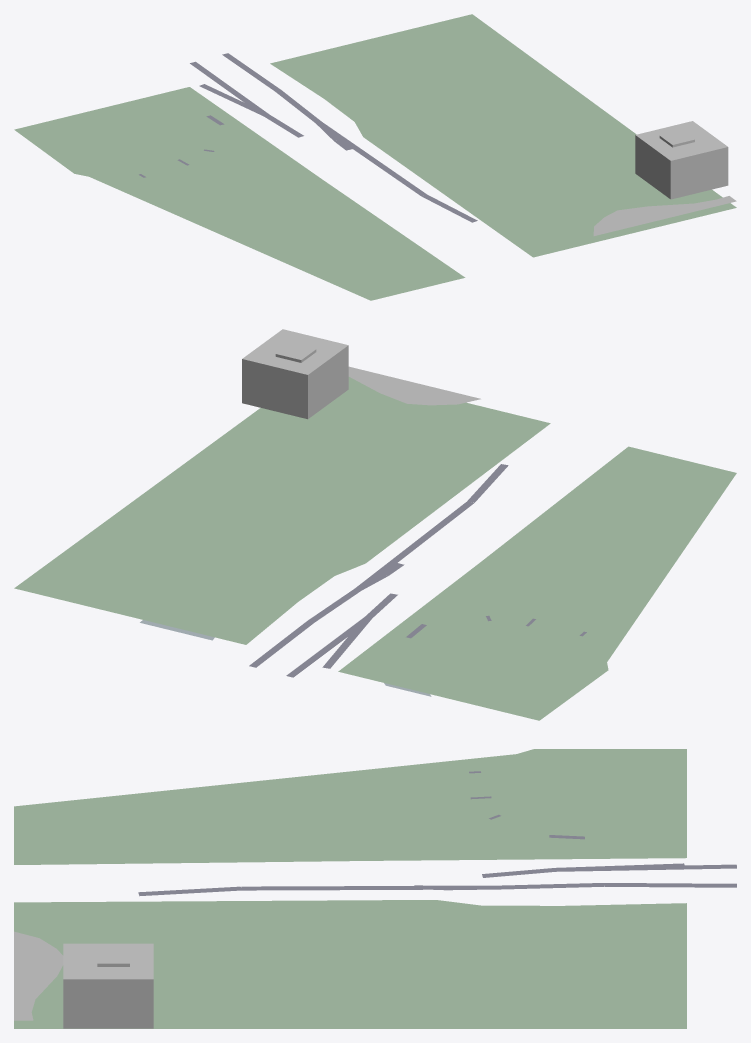
The model's file is 121_116_mid.glb.
3 views of the same model, one above another, from view 1: azimuth 30°, elevation 25°; view 2: azimuth 150°, elevation 25°; view 3: azimuth 270°, elevation 25° (orthographic). The views are drawn at different scales.
Bounding box in the file's own units: 512 × 54.52 × 537.
